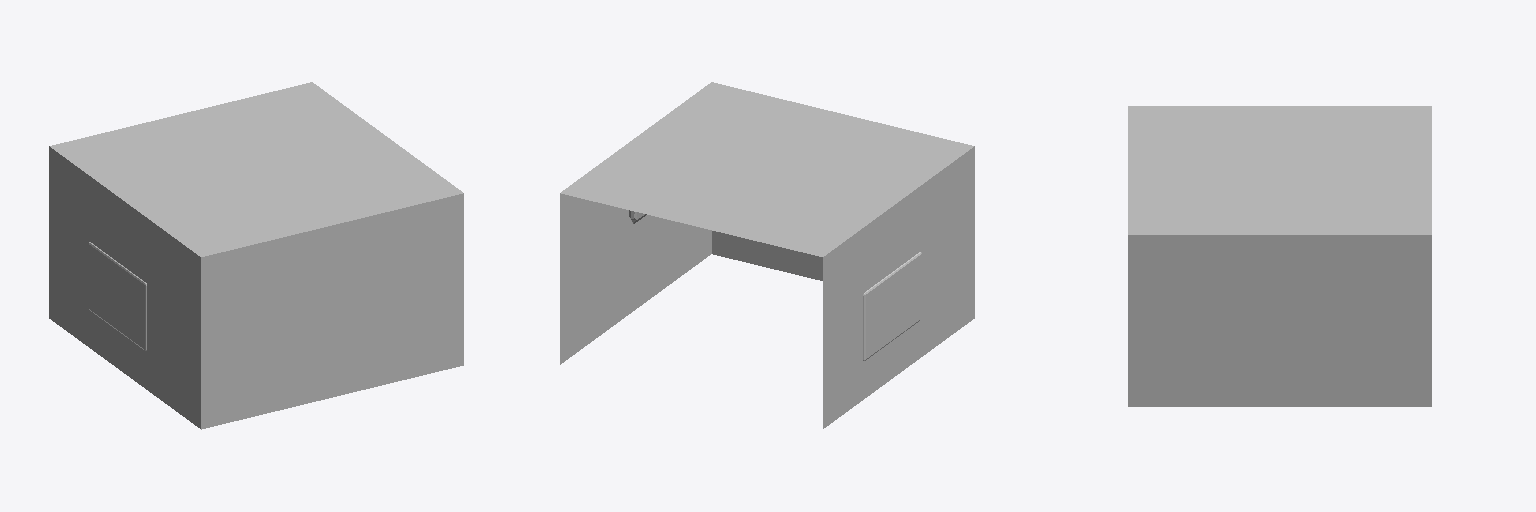
File: mainRoom.obj
3 renders of one model, left to right at view 1: azimuth 30°, elevation 25°; view 2: azimuth 150°, elevation 25°; view 3: azimuth 270°, elevation 25°, orthographic.
Parts seen in each view (by area): view 1: Plane; view 2: Plane; view 3: Plane.
Boxes of the visible parts, x1=… form: Plane: x1=49, y1=82, x2=463, y2=429; Plane: x1=560, y1=82, x2=974, y2=428; Plane: x1=1128, y1=106, x2=1431, y2=406.
Bounding box in the file's own units: 8.05 × 5 × 8.